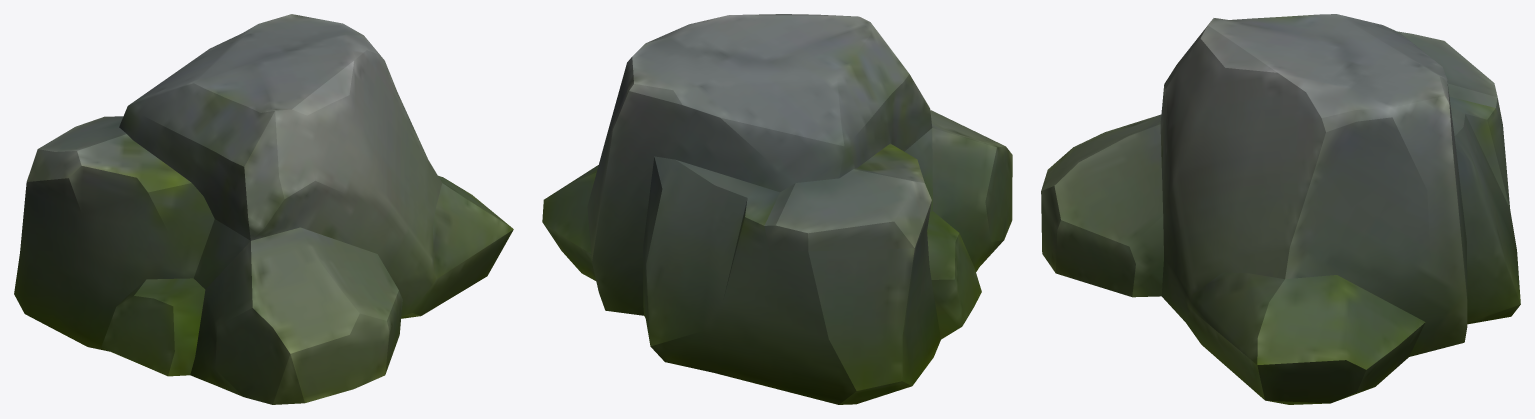
File: Rock_Medium_4.glb
The picture shows the model from 3 angles, left to right: view 1: azimuth 30°, elevation 25°; view 2: azimuth 150°, elevation 25°; view 3: azimuth 270°, elevation 25°; orthographic projection. The views are drawn at different scales.
Visible parts, largest first — view 1: Rock_Medium_4; view 2: Rock_Medium_4; view 3: Rock_Medium_4.
Boxes of the visible parts, x1,y1,x2,y2 form: Rock_Medium_4: (14,14,513,404); Rock_Medium_4: (542,14,1012,404); Rock_Medium_4: (1041,14,1520,404).
Bounding box in the file's own units: 3.78 × 2.48 × 3.61.
1 material, 1 textured.
